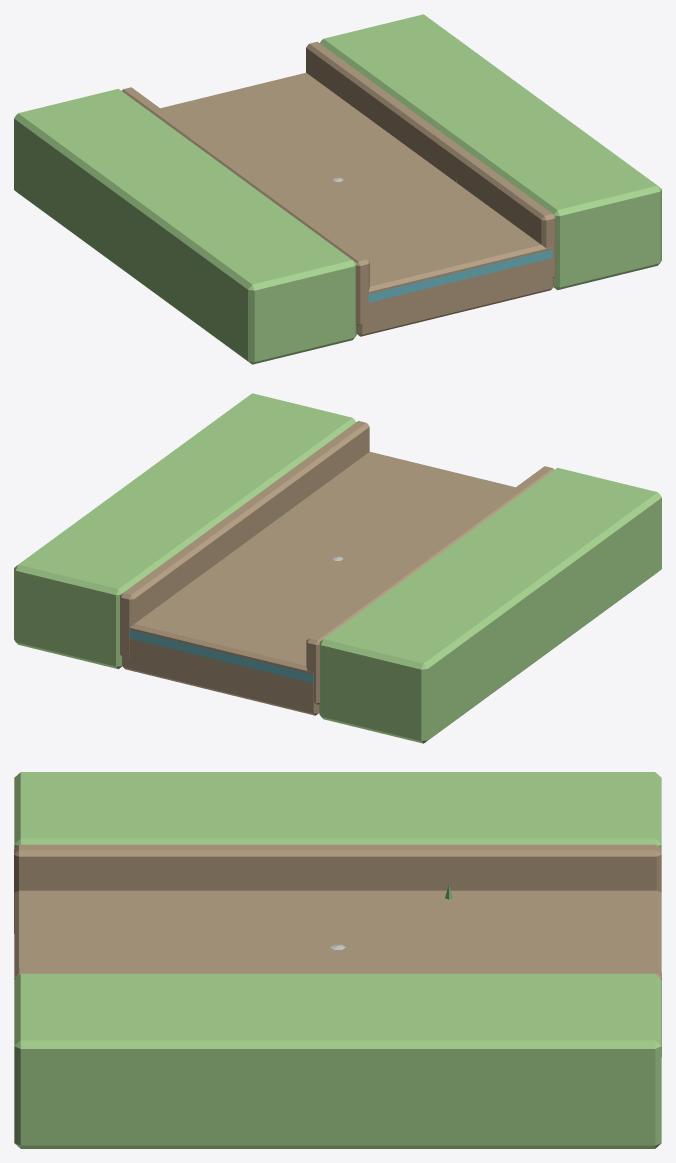
Rendered from town_river_tile_straight.glb.
The picture shows the model from 3 angles, top to bottom: view 1: azimuth 30°, elevation 25°; view 2: azimuth 150°, elevation 25°; view 3: azimuth 270°, elevation 25°; orthographic projection. The views are drawn at different scales.
Parts seen in each view (by area): view 1: world; view 2: world; view 3: world.
Part boxes in pixels (x1,y1,x2,y2): world: (14,14,661,364); world: (14,393,661,743); world: (14,772,661,1148).
Size of the model in its own units: 2 by 0.3697 by 2.
